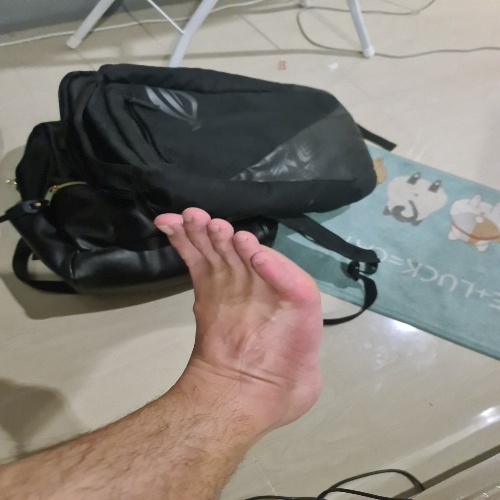3: (154, 212, 205, 268)
4: (292, 360, 321, 420)
Top_Foot: (157, 205, 321, 428)
